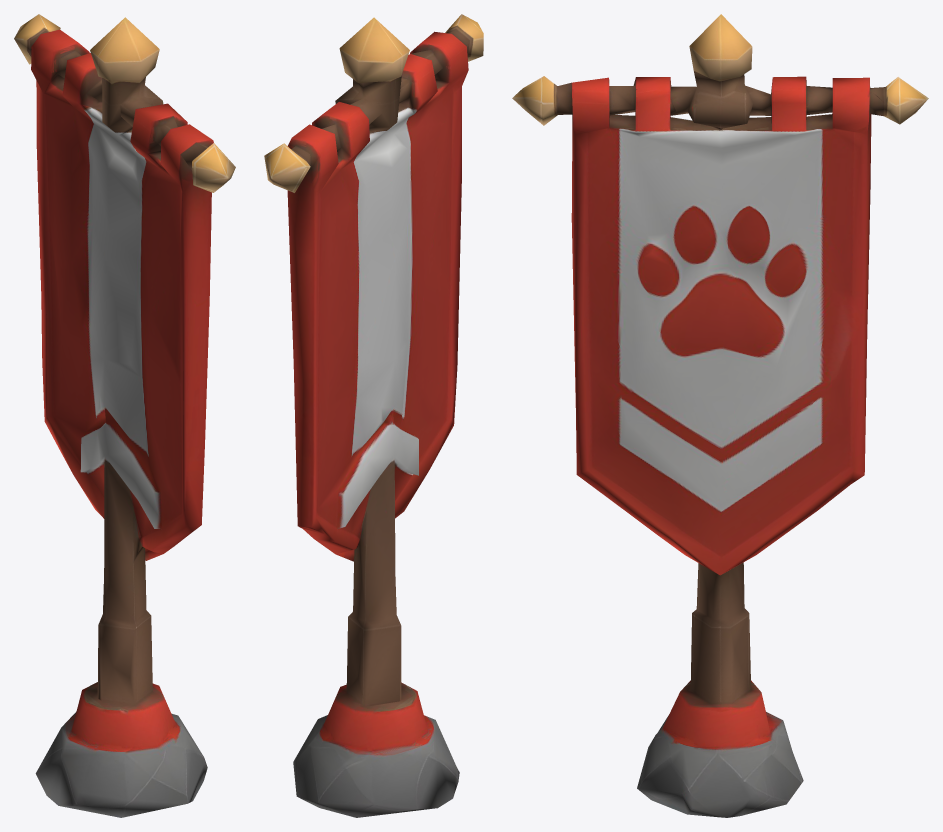
Rendered from agility-sign.glb.
3 renders of one model, left to right at view 1: azimuth 30°, elevation 25°; view 2: azimuth 150°, elevation 25°; view 3: azimuth 270°, elevation 25°, orthographic.
Parts seen in each view (by area): view 1: tripo_node_6731bf2f-1f3f-4c1b-b348-7fe557bf3441; view 2: tripo_node_6731bf2f-1f3f-4c1b-b348-7fe557bf3441; view 3: tripo_node_6731bf2f-1f3f-4c1b-b348-7fe557bf3441.
Part boxes in pixels (box(x1,y1,x2,y2)): tripo_node_6731bf2f-1f3f-4c1b-b348-7fe557bf3441: box(14, 14, 235, 817); tripo_node_6731bf2f-1f3f-4c1b-b348-7fe557bf3441: box(264, 14, 483, 817); tripo_node_6731bf2f-1f3f-4c1b-b348-7fe557bf3441: box(512, 14, 928, 817).
Bounding box in the file's own units: 0.1978 × 1 × 0.4904.
Materials: 1 (1 with a texture image).
